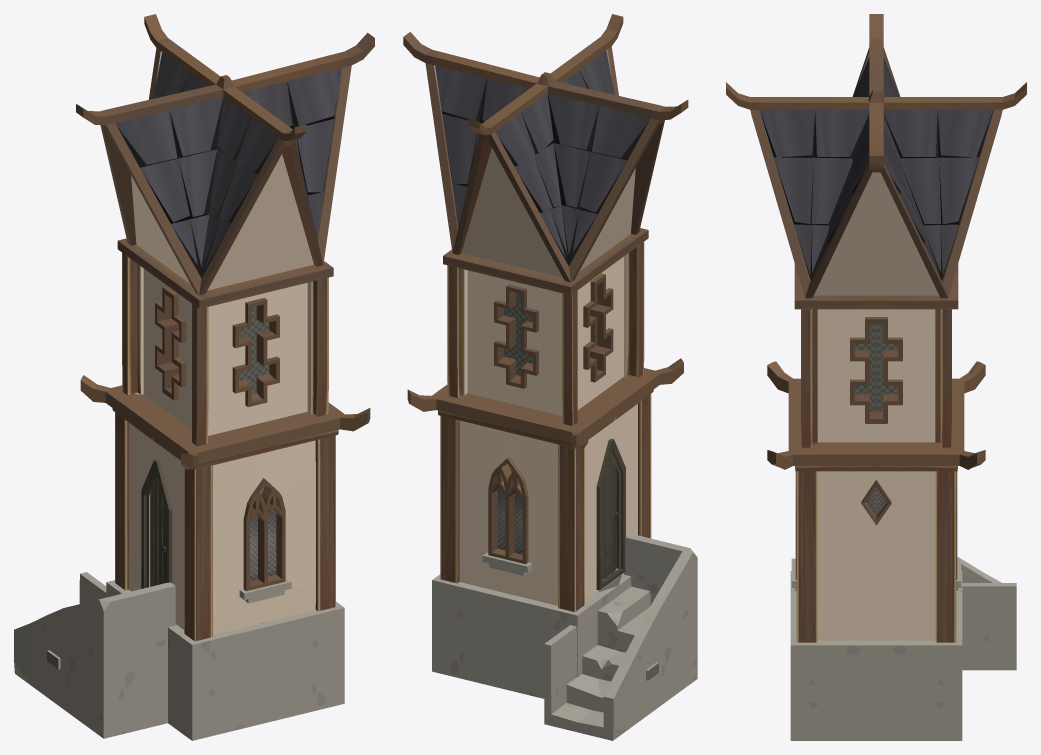
Rendered from Tower.fbx.
The picture shows the model from 3 angles, left to right: view 1: azimuth 30°, elevation 25°; view 2: azimuth 150°, elevation 25°; view 3: azimuth 270°, elevation 25°; orthographic projection. The views are drawn at different scales.
Parts seen in each view (by area): view 1: Tower; view 2: Tower; view 3: Tower.
Boxes of the visible parts, left/top/right/bottom form: Tower: left=14, top=14, right=374, bottom=740; Tower: left=403, top=14, right=697, bottom=740; Tower: left=726, top=14, right=1026, bottom=740.
Bounding box in the file's own units: 1218 × 2477 × 1091.
